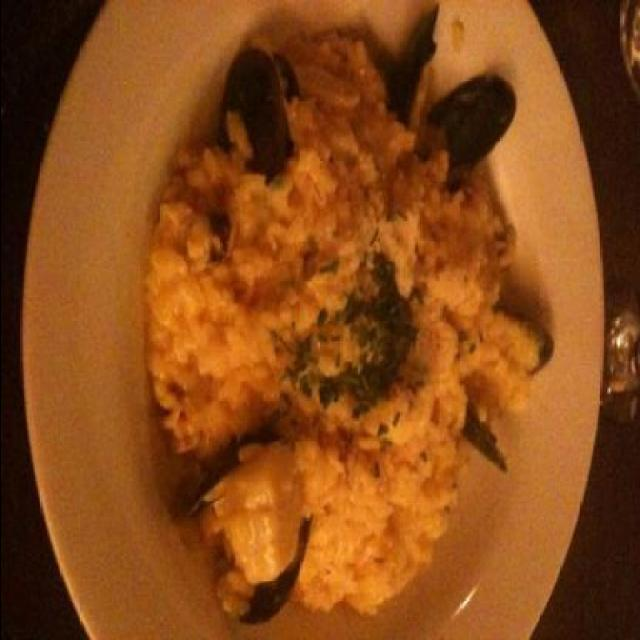Risotto: (148, 36, 516, 598)
